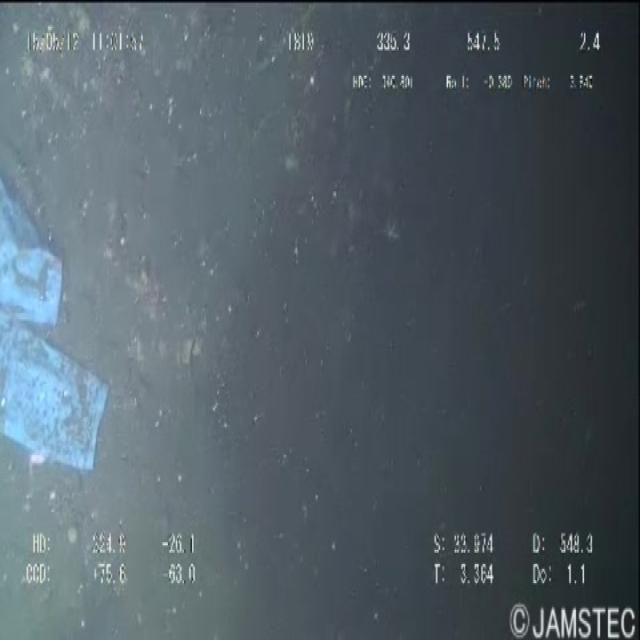Accessories: (0, 168, 112, 480)
